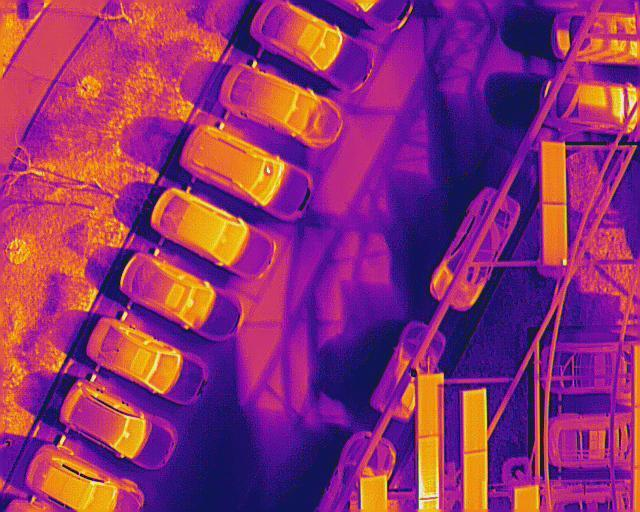Cell: (543, 204, 567, 265)
No-Anomaly: (464, 450, 488, 512), (464, 391, 488, 452), (542, 142, 565, 203), (417, 372, 438, 435)
Unclassified: (418, 434, 439, 499)
